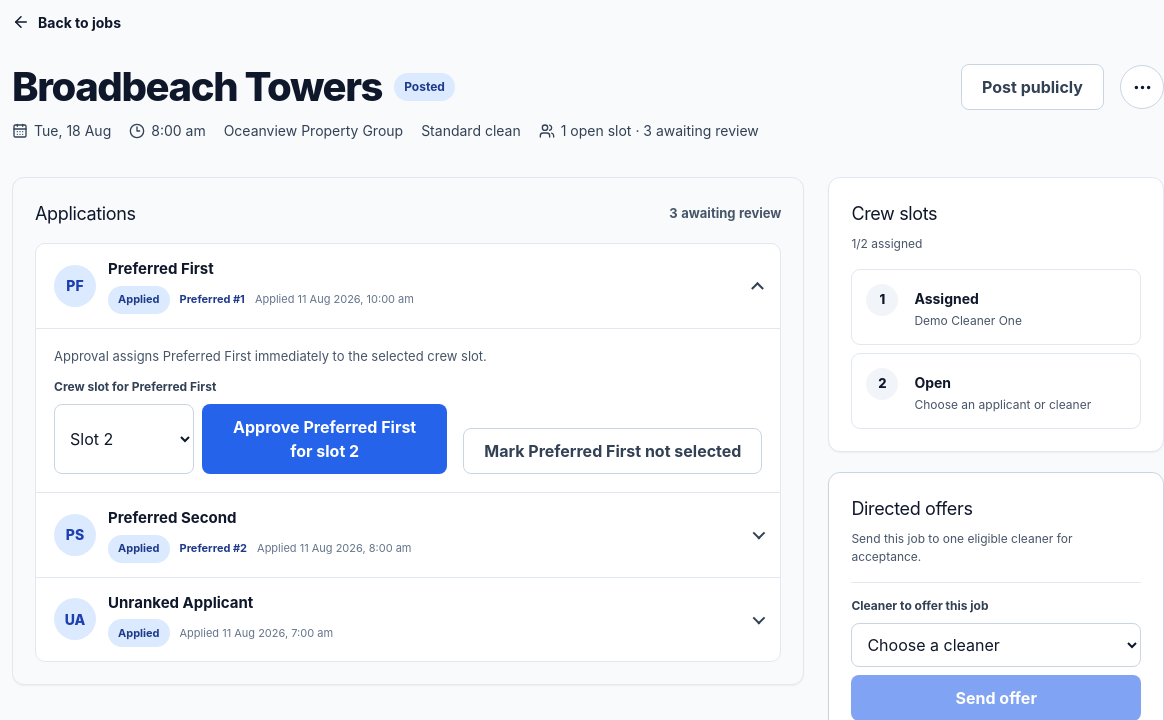
Test case: CLE-22 job detail workspace › surfaces the revoke-first condition verbatim when approving an applicant
Step 1. Click the button "Approve Preferred First for slot 2" → (325, 439), box [202, 404, 447, 474]
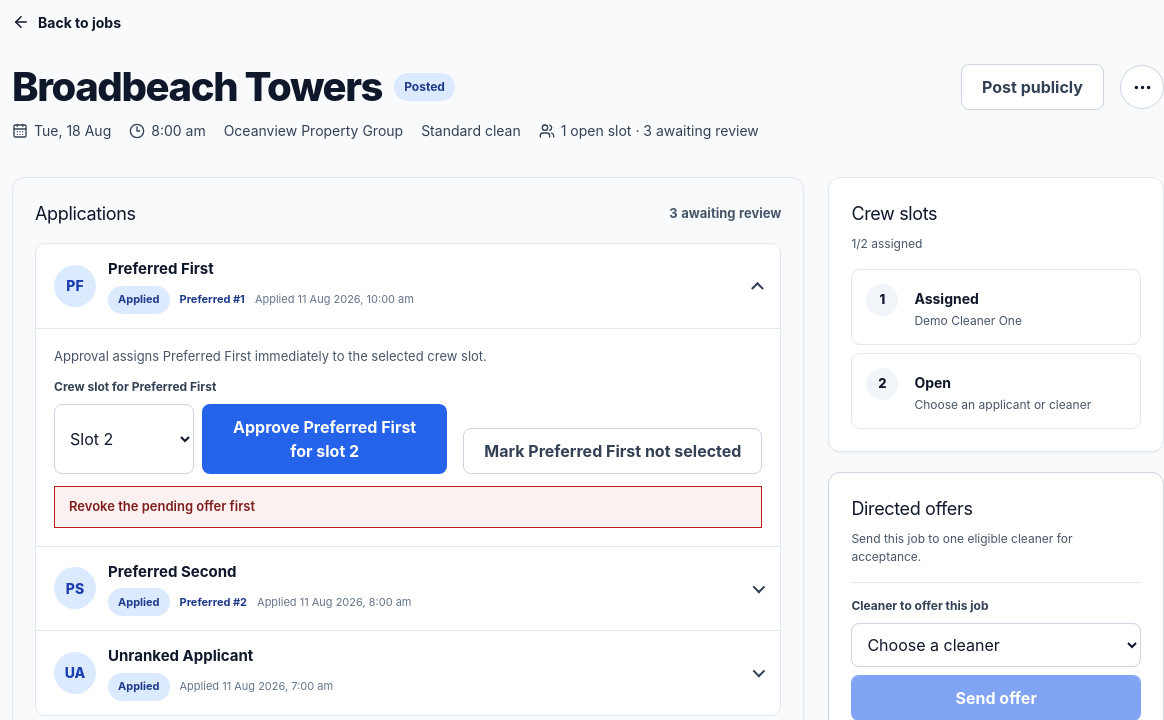
Expected: the message reads "Revoke the pending offer first", [69, 498, 255, 514]
